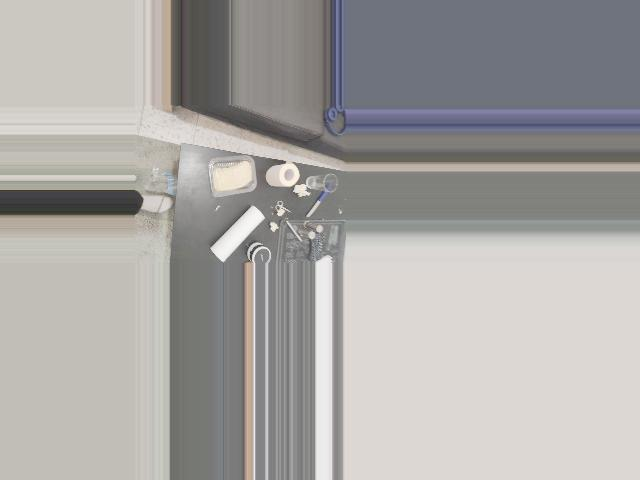cheese: (203, 153, 257, 198)
